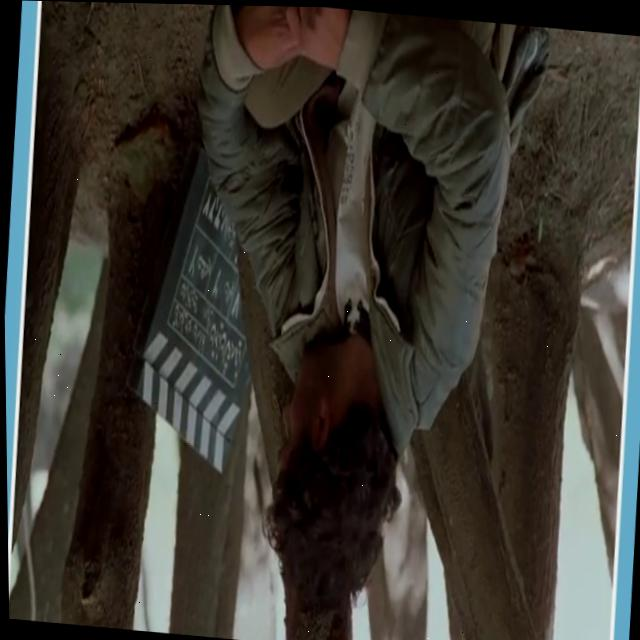Clapperboard: (130, 140, 251, 476)
